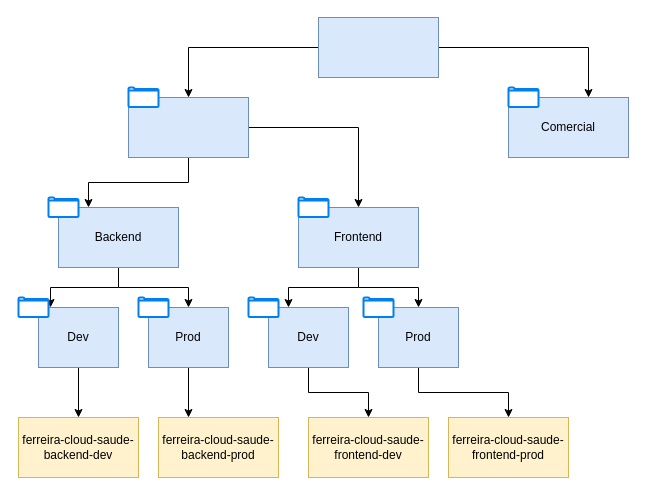
The diagram is 646 pixels wide and 495 high, and some of its shapes have lost their labels. Each missing label, with the centre of its shape:
"ferreira-cloud" goes at point (378, 47).
"Saude" goes at point (188, 127).
